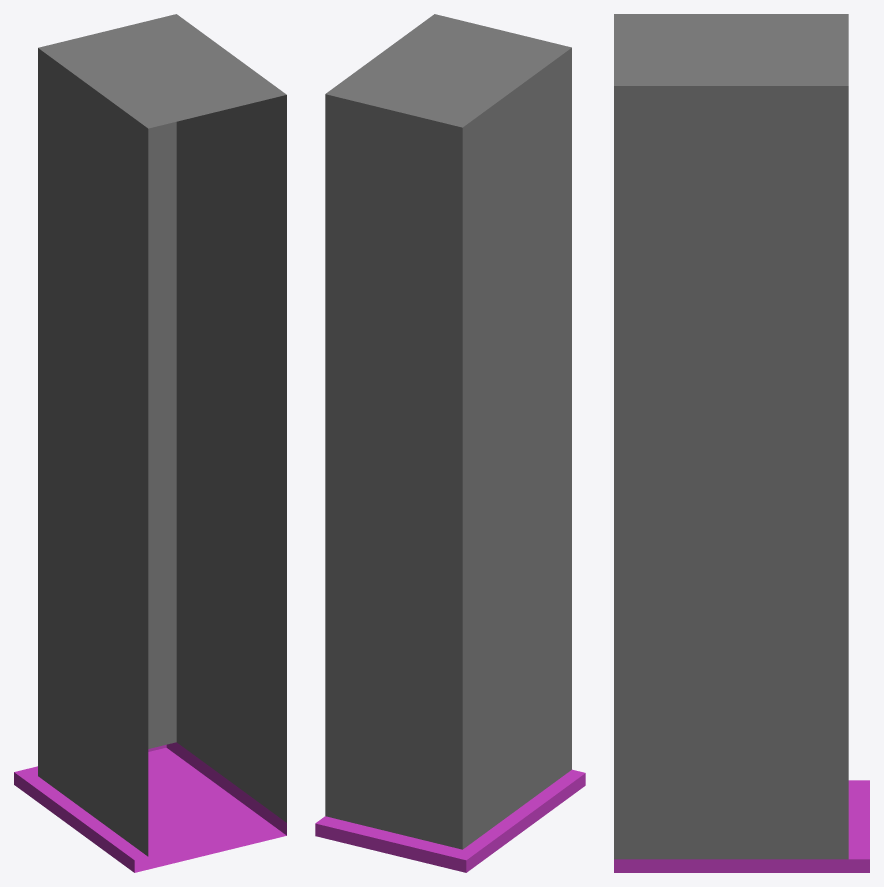
File: FacadeRightEnd.fbx
3 renders of one model, left to right at view 1: azimuth 30°, elevation 25°; view 2: azimuth 150°, elevation 25°; view 3: azimuth 270°, elevation 25°, orthographic. The views are drawn at different scales.
Visible parts, largest first — view 1: Cube; view 2: Cube; view 3: Cube.
Boxes of the visible parts, bbox=[...] form: Cube: bbox=[14, 14, 286, 872]; Cube: bbox=[315, 14, 585, 872]; Cube: bbox=[614, 14, 869, 872].
Size of the model in its own units: 86.15 by 400 by 118.
